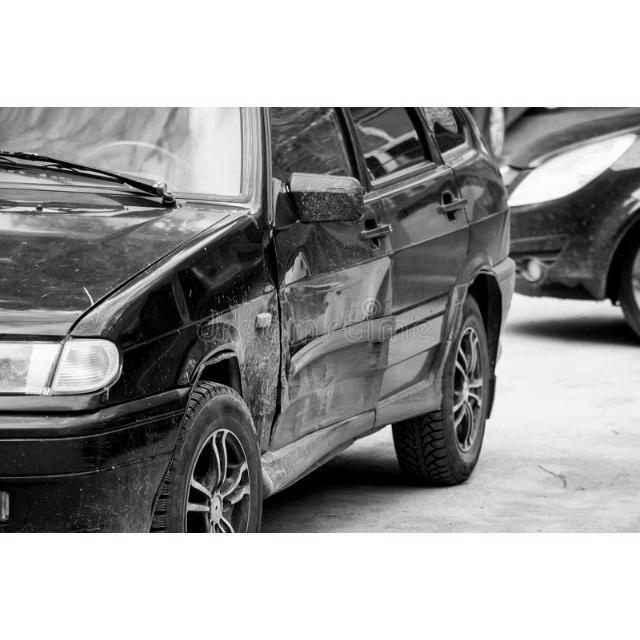doorouter-dent: (265, 185, 392, 458)
fender-dent: (92, 224, 269, 483)
